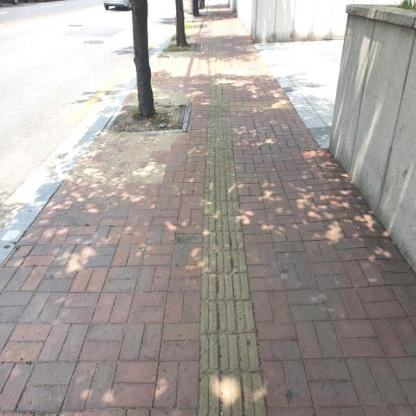podotacti: (197, 30, 263, 414)
